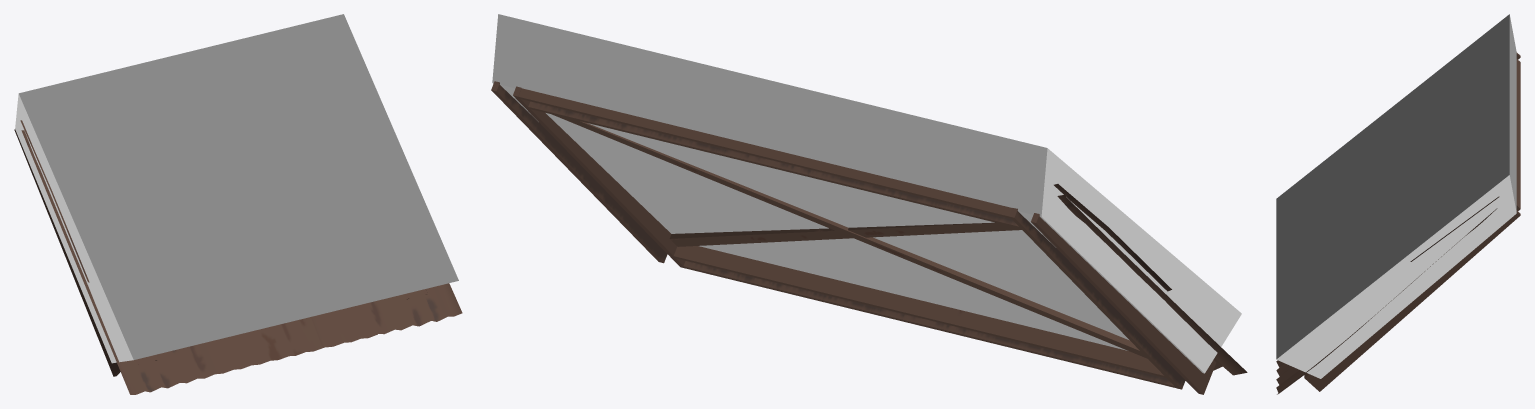
Rendered from SM_Polygonal_Metal_Half_Roof.fbx.
The picture shows the model from 3 angles, left to right: view 1: azimuth 30°, elevation 25°; view 2: azimuth 150°, elevation 25°; view 3: azimuth 270°, elevation 25°; orthographic projection. The views are drawn at different scales.
Visible parts, largest first — view 1: SM_Polygonal_Metal_Half_Roof_ConvexHulls, SM_Polygonal_Metal_Half_Roof; view 2: SM_Polygonal_Metal_Half_Roof_ConvexHulls, SM_Polygonal_Metal_Half_Roof; view 3: SM_Polygonal_Metal_Half_Roof_ConvexHulls, SM_Polygonal_Metal_Half_Roof.
Part boxes in pixels (x1,y1,x2,y2): SM_Polygonal_Metal_Half_Roof_ConvexHulls: (15, 14, 458, 363); SM_Polygonal_Metal_Half_Roof: (14, 120, 462, 394); SM_Polygonal_Metal_Half_Roof_ConvexHulls: (492, 14, 1241, 373); SM_Polygonal_Metal_Half_Roof: (491, 81, 1247, 394); SM_Polygonal_Metal_Half_Roof_ConvexHulls: (1276, 14, 1516, 378); SM_Polygonal_Metal_Half_Roof: (1276, 52, 1520, 394).
Size of the model in its own units: 306 by 193 by 196.
Materials: 2 (1 with a texture image).
